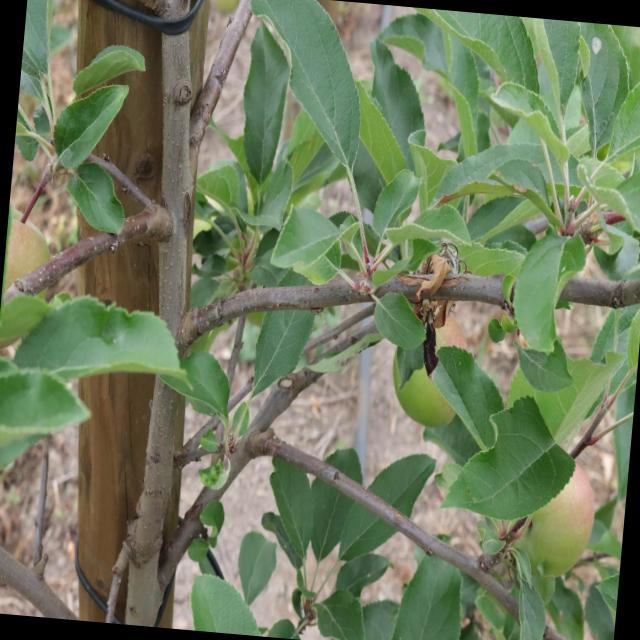-FireBlight-: (417, 240, 471, 378)
